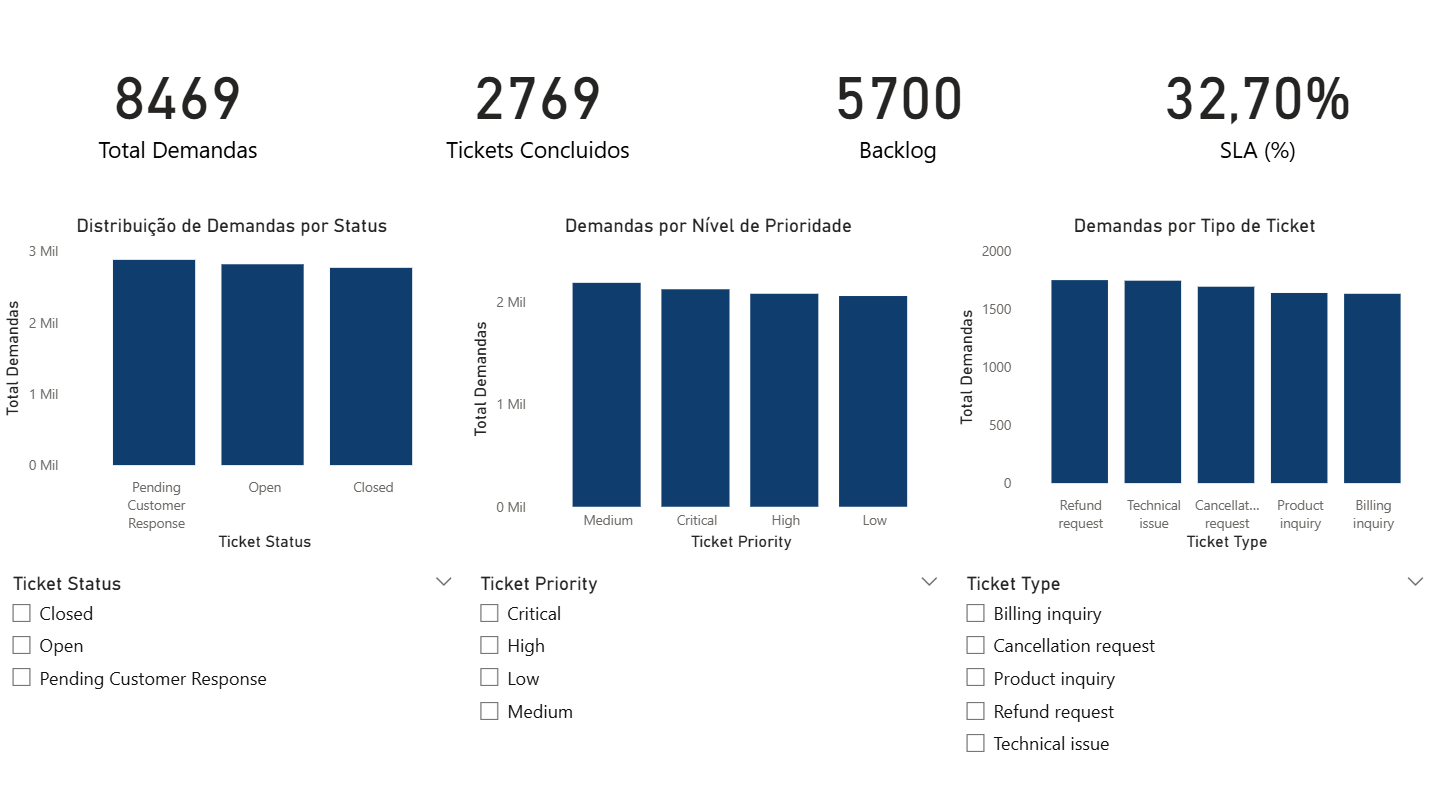

Layout of this report page (visuals, bound fields, positions):
{"tool":"powerbi","page":{"name":"Página 1","canvas":[1280,720],"ordinal":0},"visuals":[{"type":"card","title":"Total Demandas","fields":{"Values":["customer_support_tickets.Total Demandas"]},"box":[0,0,320,192],"z":0},{"type":"card","fields":{"Values":["customer_support_tickets.Tickets Concluidos"]},"box":[320,0,320,192],"z":1000},{"type":"card","fields":{"Values":["customer_support_tickets.Backlog"]},"box":[640,0,320,192],"z":2000},{"type":"card","fields":{"Values":["customer_support_tickets.SLA (%)"]},"box":[960,0,320,192],"z":3000},{"type":"columnChart","title":"Distribuição de Demandas por Status","fields":{"Category":["customer_support_tickets.Ticket Status"],"Y":["customer_support_tickets.Total Demandas"]},"box":[0,192,416,304],"z":4000},{"type":"columnChart","title":"Demandas por Nível de Prioridade","fields":{"Category":["customer_support_tickets.Ticket Priority"],"Y":["customer_support_tickets.Total Demandas"]},"box":[416,192,432,304],"z":5000},{"type":"columnChart","title":"Demandas por Tipo de Ticket","fields":{"Category":["customer_support_tickets.Ticket Type"],"Y":["customer_support_tickets.Total Demandas"]},"box":[848,192,432,304],"z":6000},{"type":"slicer","fields":{"Values":["customer_support_tickets.Ticket Status"]},"box":[0,506,416,214],"z":7000},{"type":"slicer","fields":{"Values":["customer_support_tickets.Ticket Priority"]},"box":[416,506,432,214],"z":8000},{"type":"slicer","fields":{"Values":["customer_support_tickets.Ticket Type"]},"box":[848,506,432,214],"z":9000}]}

Visuals, with their boxes in screenshot pixels (x1, y1, x2, y2), scaled from the page's 1280x720 canvas onto the 1438x807 screenshot:
"Total Demandas" card: bbox=(0, 0, 360, 215)
card - customer_support_tickets.Tickets Concluidos: bbox=(360, 0, 719, 215)
card - customer_support_tickets.Backlog: bbox=(719, 0, 1078, 215)
card - customer_support_tickets.SLA (%): bbox=(1078, 0, 1437, 215)
"Distribuição de Demandas por Status" columnChart: bbox=(0, 215, 467, 556)
"Demandas por Nível de Prioridade" columnChart: bbox=(467, 215, 953, 556)
"Demandas por Tipo de Ticket" columnChart: bbox=(953, 215, 1437, 556)
slicer - customer_support_tickets.Ticket Status: bbox=(0, 567, 467, 806)
slicer - customer_support_tickets.Ticket Priority: bbox=(467, 567, 953, 806)
slicer - customer_support_tickets.Ticket Type: bbox=(953, 567, 1437, 806)
